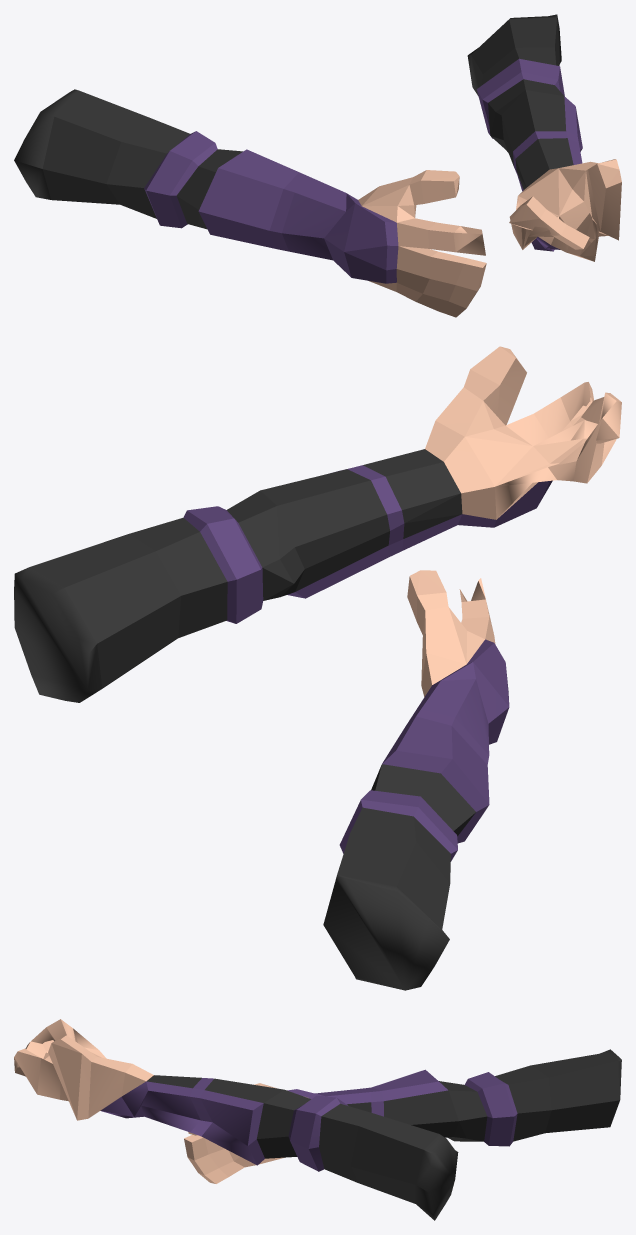
The model's file is arm2.fbx.
3 renders of one model, top to bottom at view 1: azimuth 30°, elevation 25°; view 2: azimuth 150°, elevation 25°; view 3: azimuth 270°, elevation 25°, orthographic. The views are drawn at different scales.
Parts seen in each view (by area): view 1: SK_Character_Ninja.003, SK_Character_Ninja.001; view 2: SK_Character_Ninja.001, SK_Character_Ninja.003; view 3: SK_Character_Ninja.001, SK_Character_Ninja.003.
Part boxes in pixels (box(x1,y1,x2,y2)): SK_Character_Ninja.003: box(14, 89, 486, 317); SK_Character_Ninja.001: box(467, 14, 621, 261); SK_Character_Ninja.001: box(14, 346, 621, 702); SK_Character_Ninja.003: box(323, 570, 509, 990); SK_Character_Ninja.001: box(14, 1019, 458, 1220); SK_Character_Ninja.003: box(184, 1049, 621, 1183).
Size of the model in its own units: 70.26 by 32.27 by 99.01.
